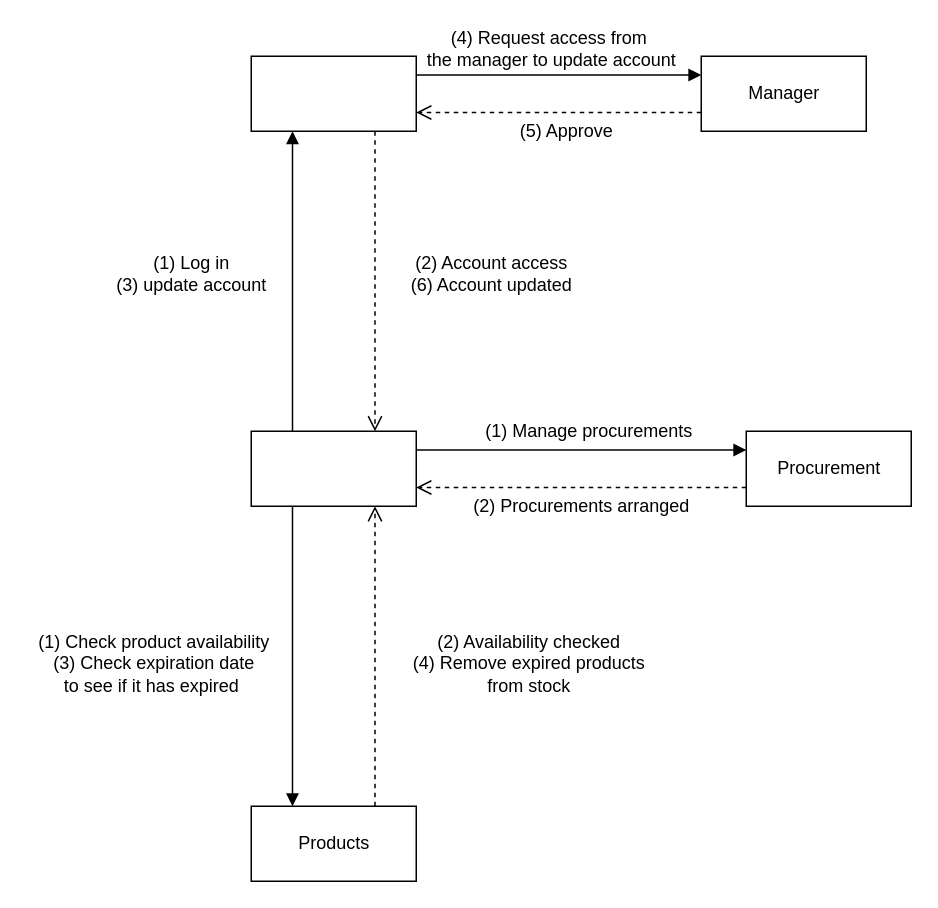
Some shapes in this 938 by 908 pixel diagram are drawn without their labels. Each missing label, with the centre of its shape:
"Account" belongs at [333,93].
"FLOOR EMPLOYEE" belongs at [333,468].
